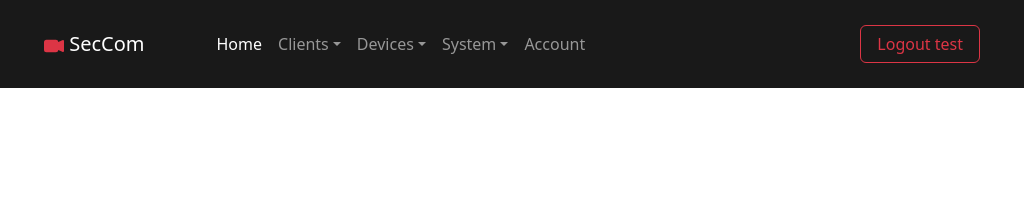
Scenario: <SecComNavbar /> › it should have the services link
The image size is (1024, 197).
Click the button "Devices".
click(391, 44)  # box [349,24,434,64]
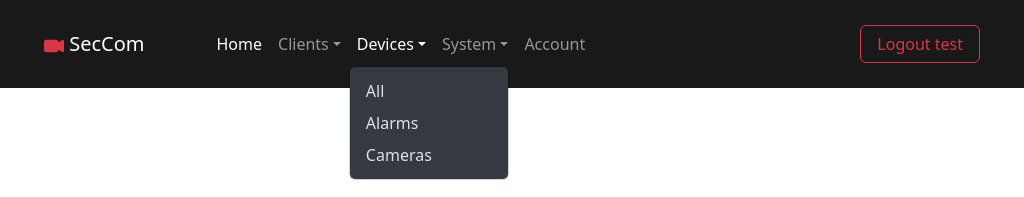
Check: the link "All" is shown, box [366,80,384,102]
